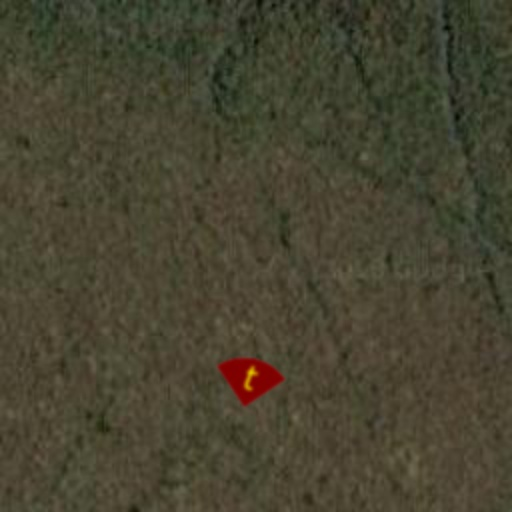quarter_circle: (210, 338, 290, 418)
